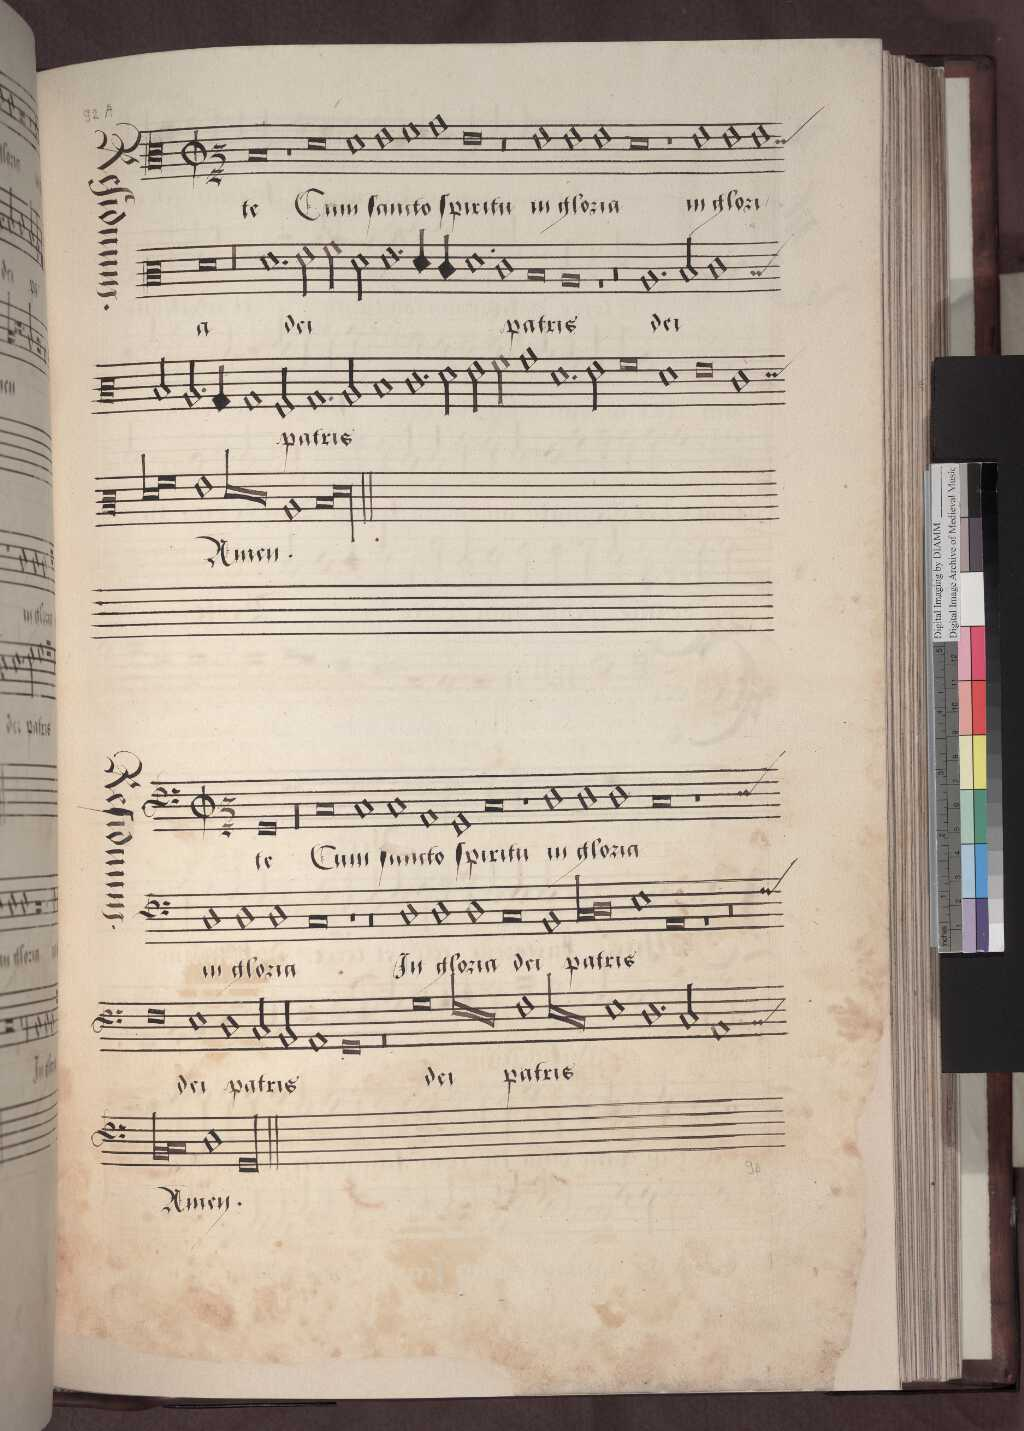2: (195, 164, 238, 193)
3: (204, 134, 231, 160)
Imincut: (173, 117, 205, 180)
breve rest: (493, 112, 510, 184)
breve_5: (455, 116, 489, 159)
breve_6: (299, 124, 332, 161), (622, 126, 656, 160)
breve_8: (240, 137, 274, 171)
c clef_7: (141, 126, 168, 181)
custos_6: (765, 116, 808, 162)
semibreve rest: (661, 112, 678, 181), (280, 116, 296, 181)
semibreve_3: (424, 103, 451, 149)
semibreve_4: (398, 109, 424, 153)
semibreve_5: (528, 113, 556, 159), (559, 113, 587, 159), (687, 113, 715, 160), (746, 113, 774, 160), (587, 114, 615, 159), (718, 114, 746, 159), (371, 115, 398, 160)
semibreve_6: (341, 122, 369, 166)
